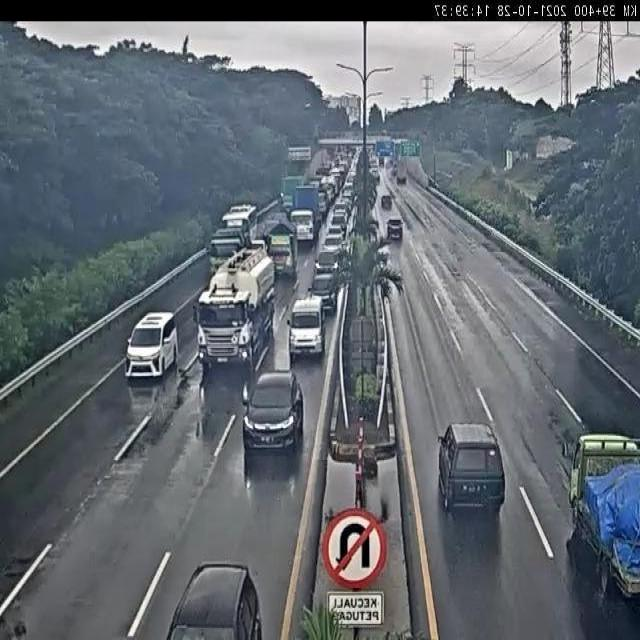Bus: (219, 204, 260, 240)
Car: (165, 560, 264, 640), (437, 422, 507, 514), (240, 367, 304, 452), (123, 311, 179, 379), (307, 273, 340, 312), (314, 249, 342, 274), (385, 216, 405, 240), (321, 236, 343, 252), (330, 214, 347, 232), (326, 224, 345, 238), (333, 201, 349, 217), (380, 194, 393, 208)
Truck: (561, 428, 640, 606), (192, 244, 273, 376), (205, 223, 249, 281), (262, 216, 300, 278), (290, 182, 322, 244), (279, 174, 305, 213), (397, 159, 408, 183), (378, 155, 386, 167)
Van: (286, 296, 327, 360)
